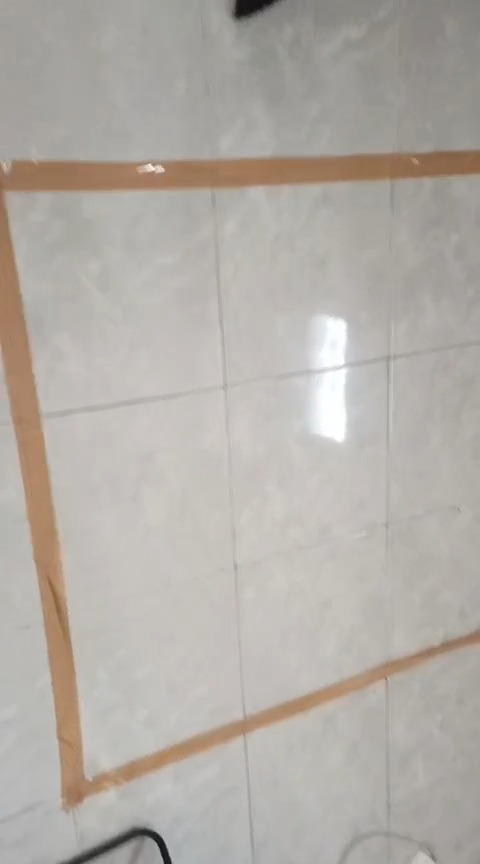floor marking: (0, 151, 479, 806)
